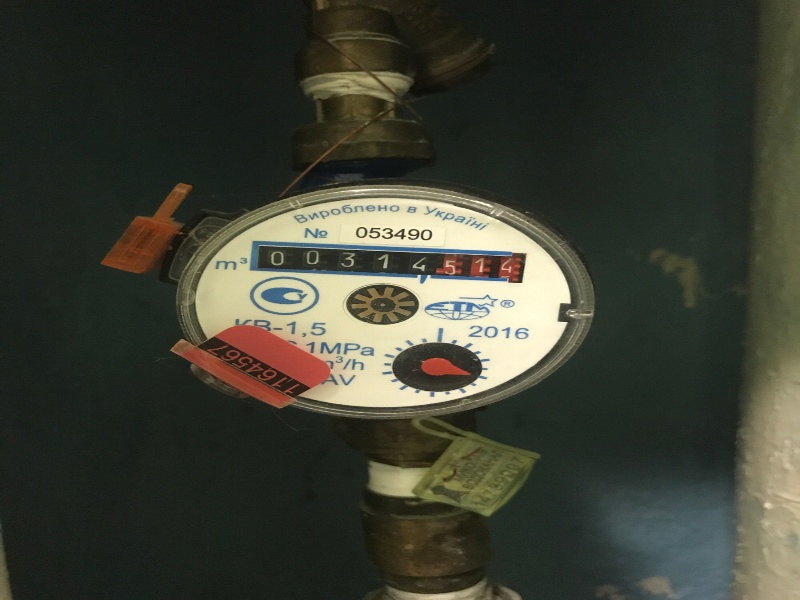meter: (256, 242, 520, 290)
